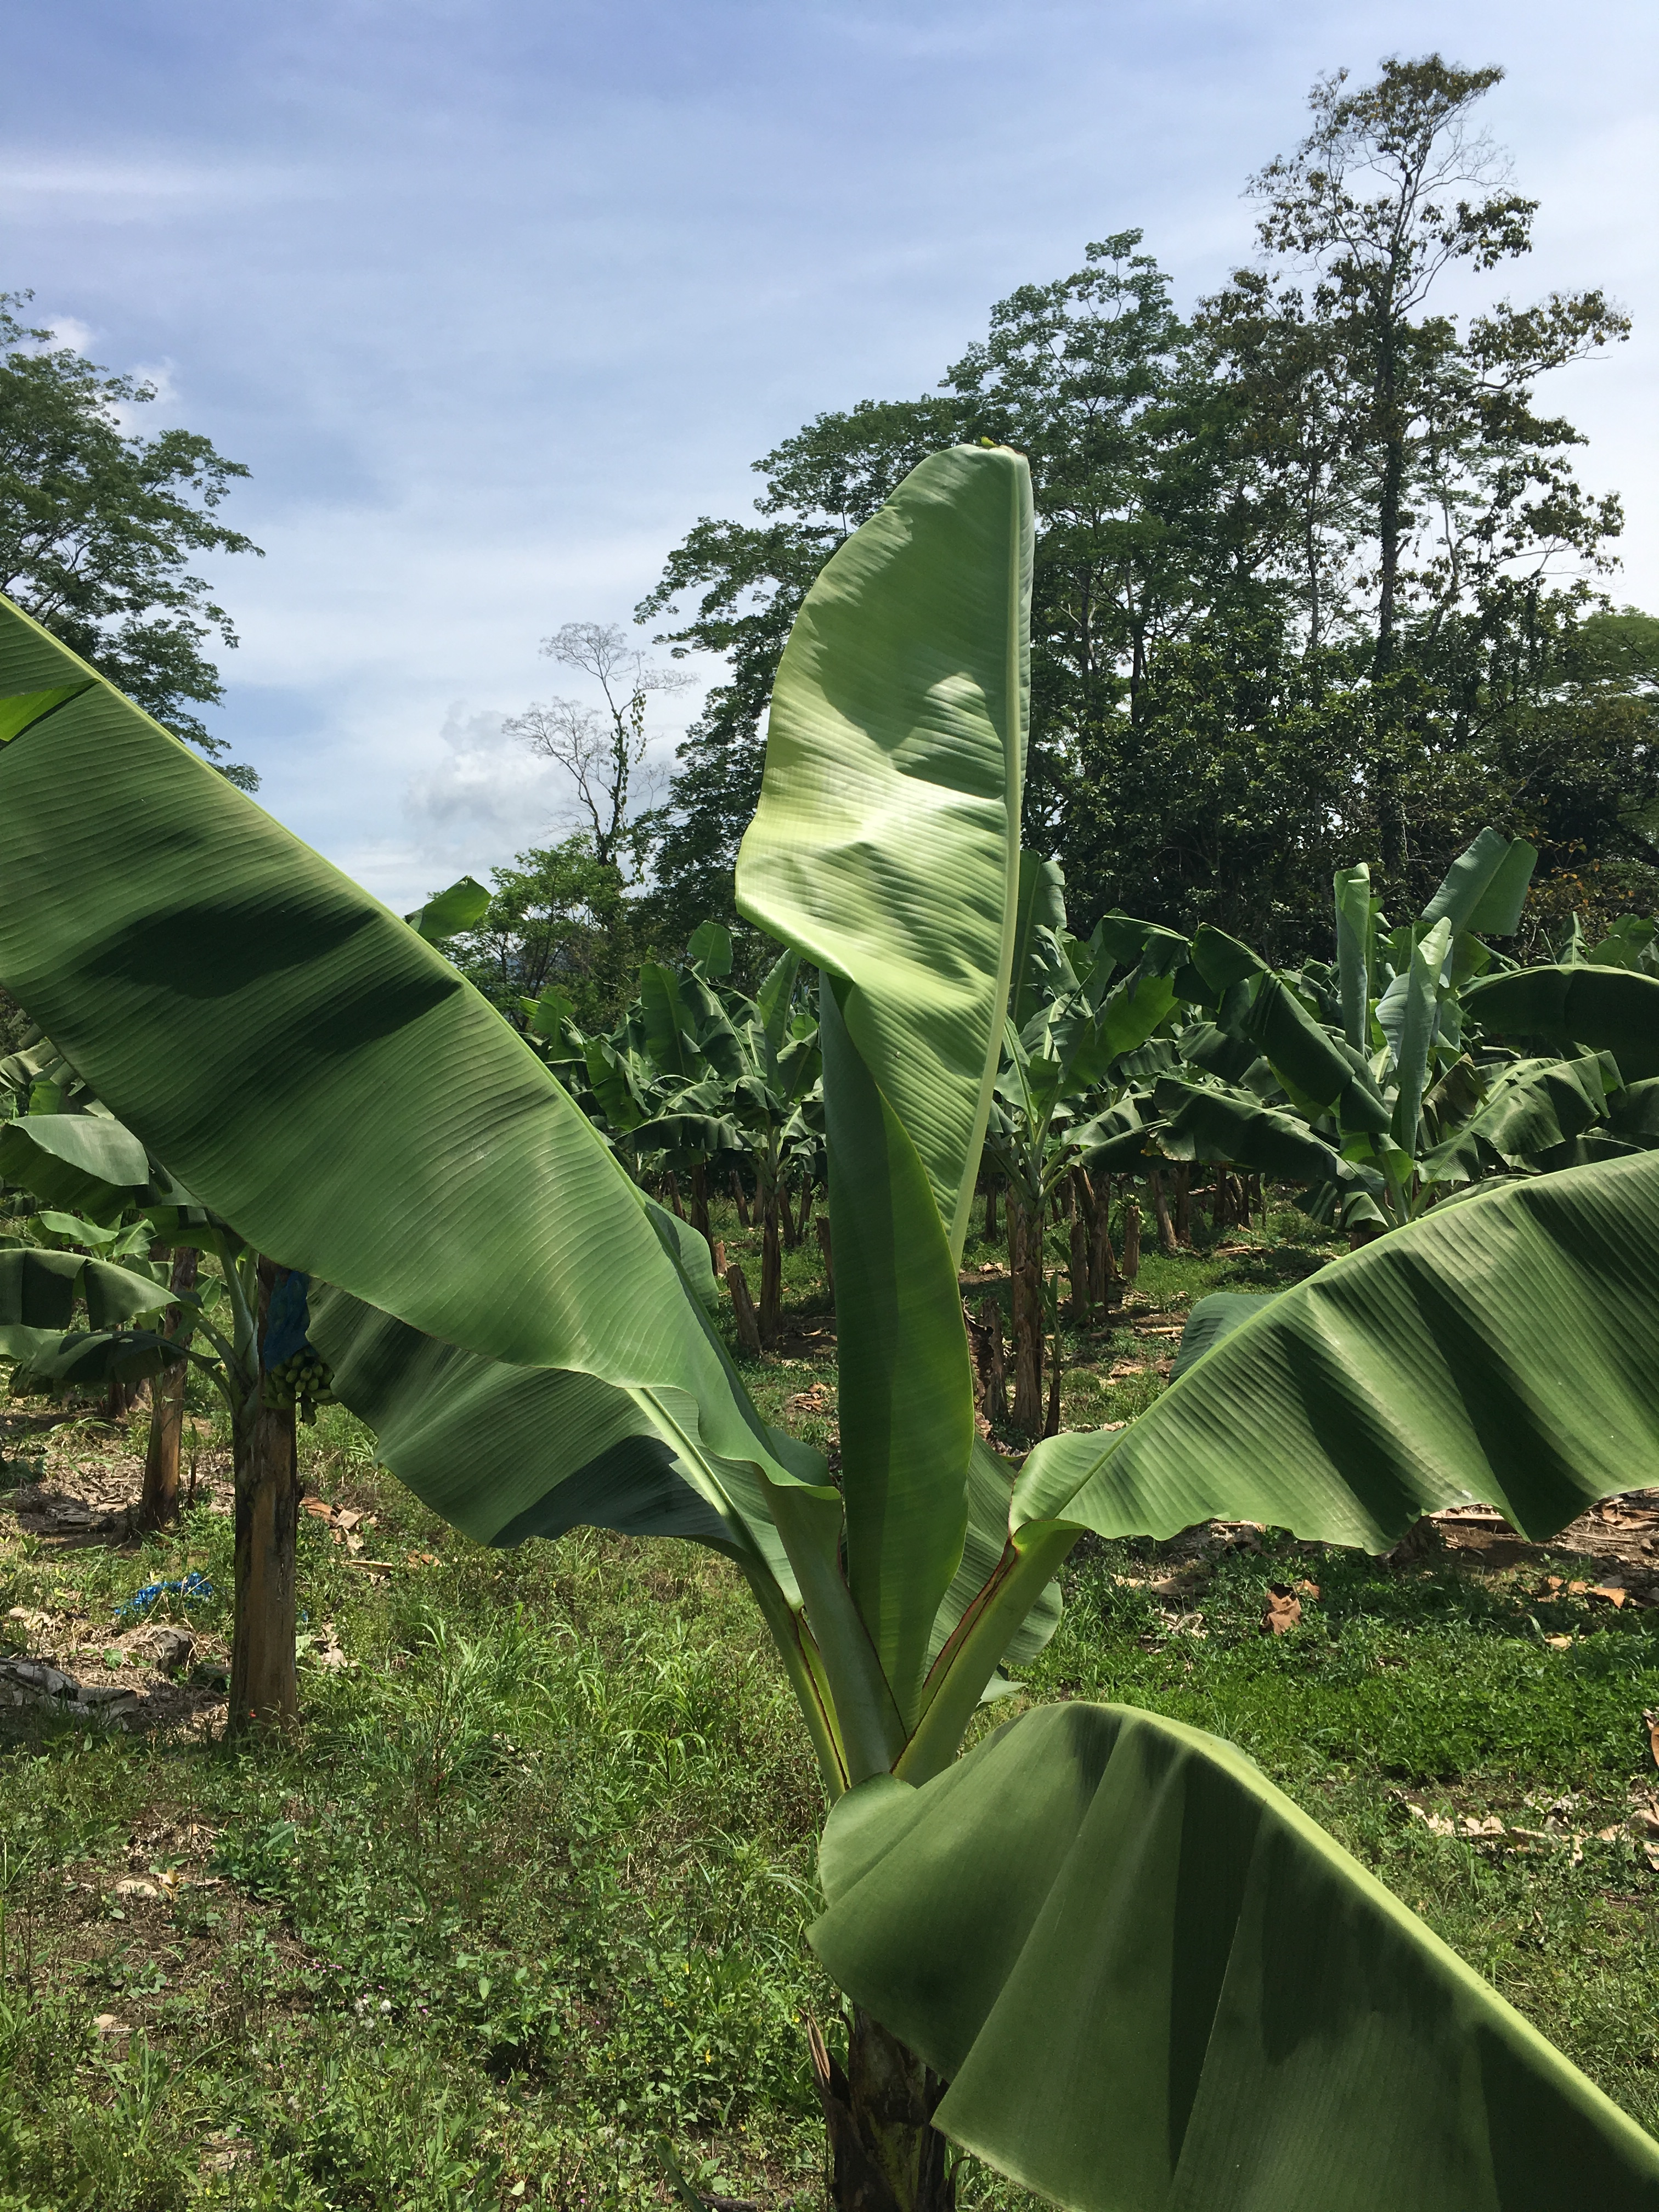candleleafs: (735, 448, 1033, 1588), (1391, 916, 1450, 1139), (1333, 862, 1370, 1049)
